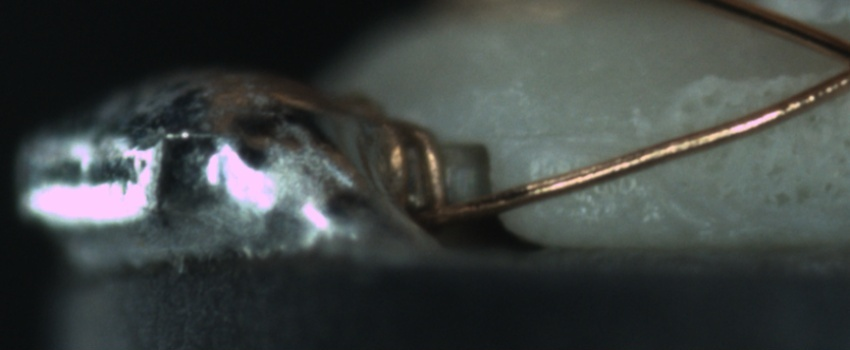CL: (807, 26, 850, 97)
DL: (506, 109, 649, 173)
TE: (371, 102, 462, 225)
